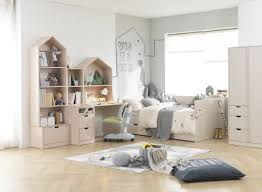Bed: (118, 93, 226, 142)
Closet: (226, 46, 262, 150)
